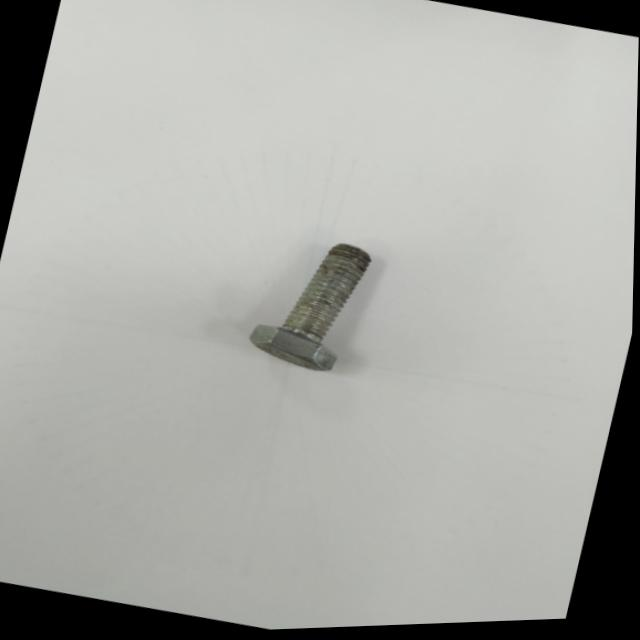Bolt: (251, 246, 372, 373)
